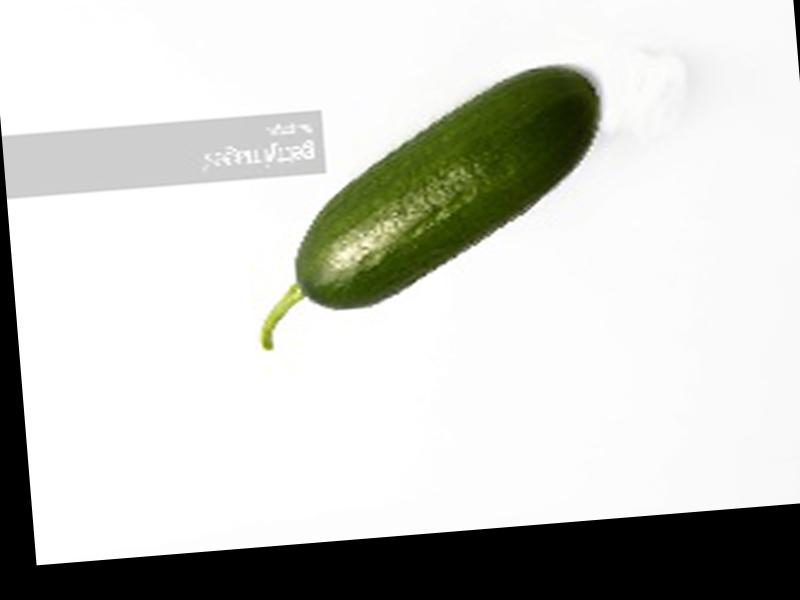Cucumber: (234, 60, 613, 348)
